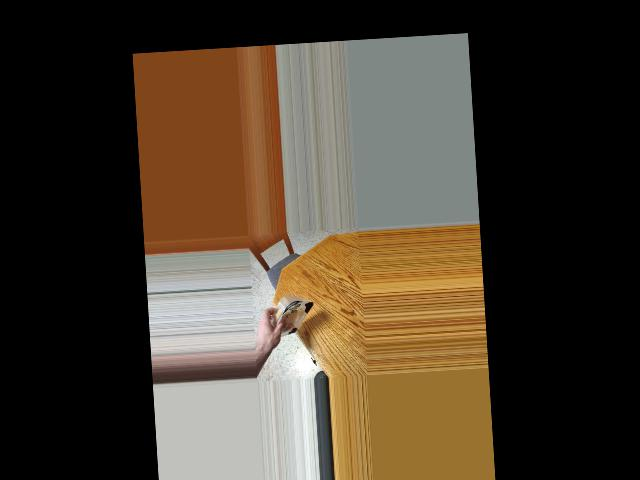cheese: (271, 289, 313, 349)
